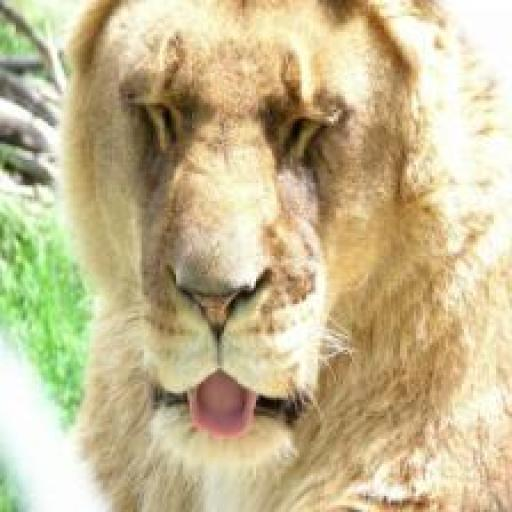lion: (50, 9, 504, 512)
